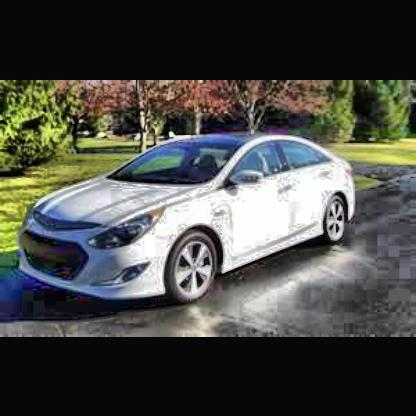Hyundai Sonata Hybrid Sedan 2012: (16, 134, 358, 304)
